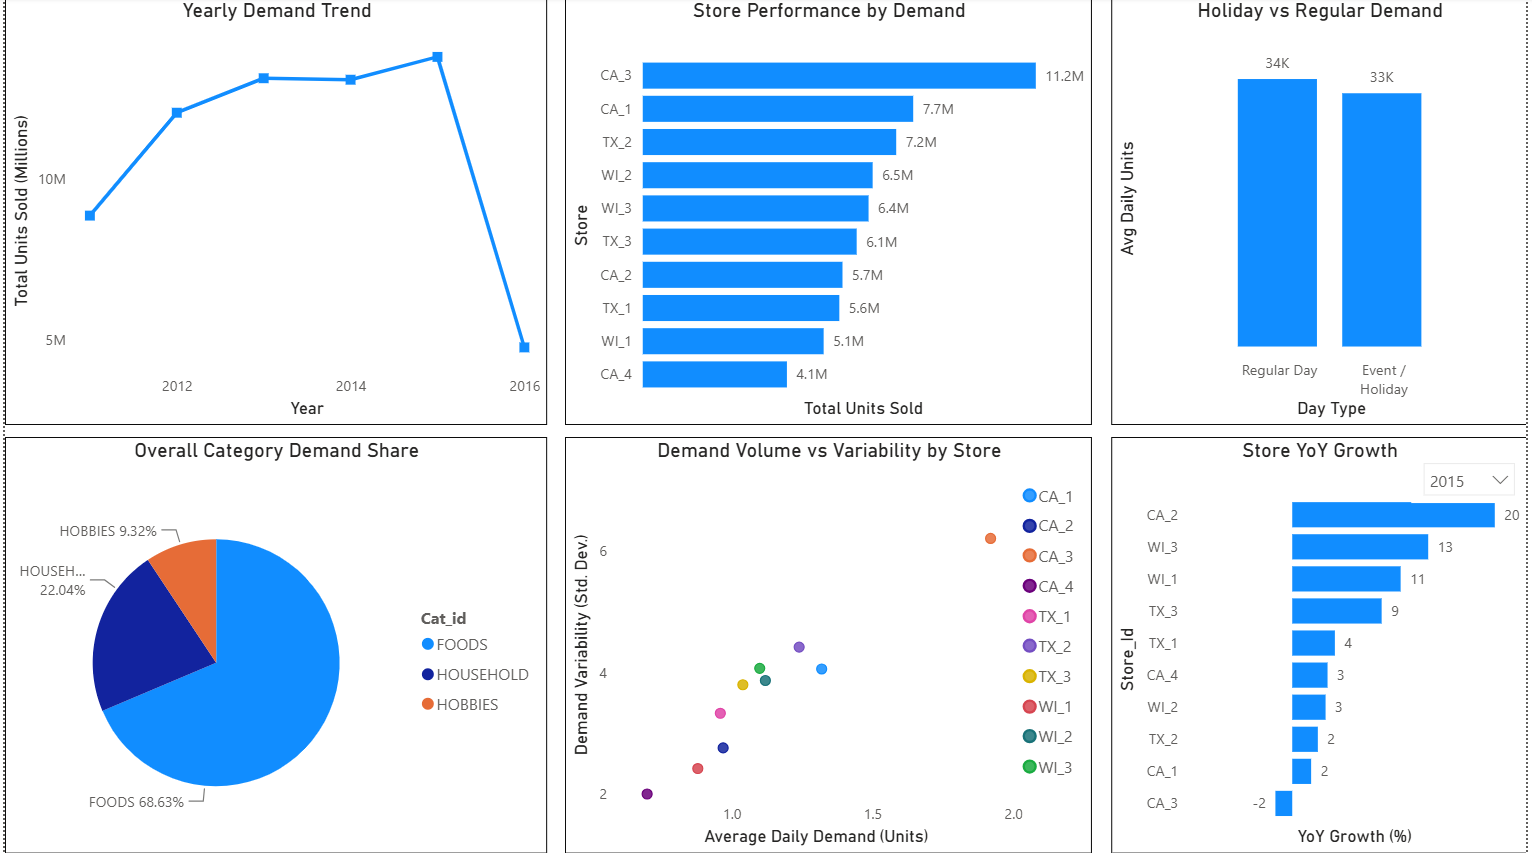

This screenshot's page, from the dashboard's own definition file:
{"tool":"powerbi","page":{"name":"Page 1","canvas":[1280,720],"ordinal":0},"visuals":[{"type":"lineChart","title":"Yearly Demand Trend","fields":{"Category":["Yearly_Demand.Year"],"Y":["Sum(Yearly_Demand.Units Sold)"]},"box":[0,0,456.2,360],"z":0},{"type":"clusteredBarChart","title":"Store Performance by Demand","fields":{"Category":["Store_Performance.Store"],"Y":["Sum(Store_Performance.Total Units Sold)"]},"box":[471.1,0,443.3,360],"z":2000},{"type":"scatterChart","title":"Demand Volume vs Variability by Store","fields":{"Series":["Store_Volume_Variability.Store"],"X":["Store_Volume_Variability.Average Demand"],"Y":["Store_Volume_Variability.Standard Deviation"]},"box":[471.1,370,443.3,350],"z":3000},{"type":"clusteredColumnChart","title":"Holiday vs Regular Demand","fields":{"Category":["Holiday_Demand.Day Type"],"Y":["Sum(Holiday_Demand.Avg Daily Units)"]},"box":[930,0,350,360],"z":4000},{"type":"clusteredBarChart","title":"Store YoY Growth","fields":{"Category":["vw_store_growth.store_id"],"Y":["Sum(vw_store_growth.yoy_growth_pct)"]},"box":[930,370,350,350],"z":5000},{"type":"slicer","fields":{"Values":["vw_store_growth.sales_year"]},"box":[1182.5,381.2,97.3,43.6],"z":6000},{"type":"pieChart","title":"Overall Category Demand Share","fields":{"Category":["Overall Category Demand Share.Cat_id"],"Y":["Sum(Overall Category Demand Share.Total_units_sold)"]},"box":[0,370,456,350],"z":6001}]}

Visuals, with their boxes in screenshot pixels (x1, y1, x2, y2), scaled from the page's 1280x720 canvas onto the 1532x853 screenshot:
"Yearly Demand Trend" lineChart: 0:0:546:426
"Store Performance by Demand" clusteredBarChart: 564:0:1094:426
"Demand Volume vs Variability by Store" scatterChart: 564:438:1094:852
"Holiday vs Regular Demand" clusteredColumnChart: 1113:0:1531:426
"Store YoY Growth" clusteredBarChart: 1113:438:1531:852
slicer - vw_store_growth.sales_year: 1415:452:1531:503
"Overall Category Demand Share" pieChart: 0:438:546:852
